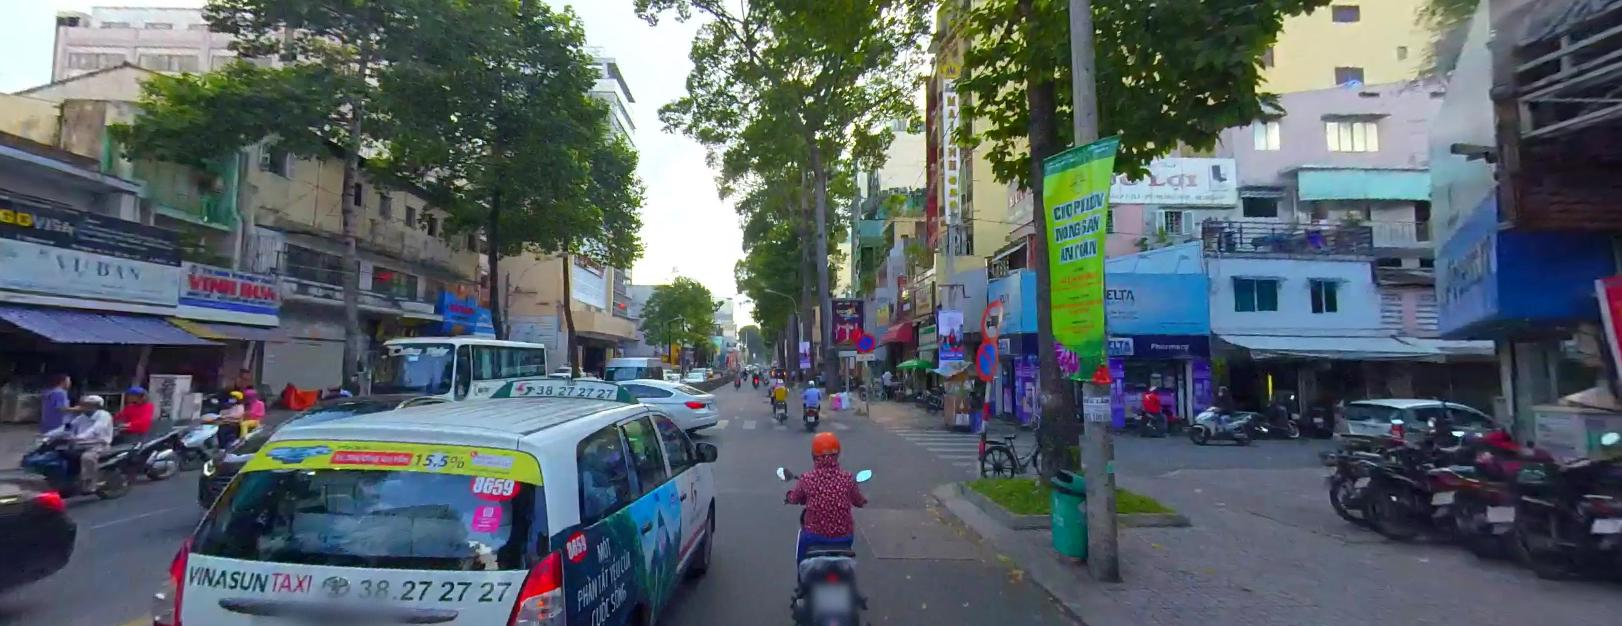Cam con lai: (980, 299, 1001, 338)
Cam dung va do: (977, 340, 997, 377), (857, 332, 873, 350)
